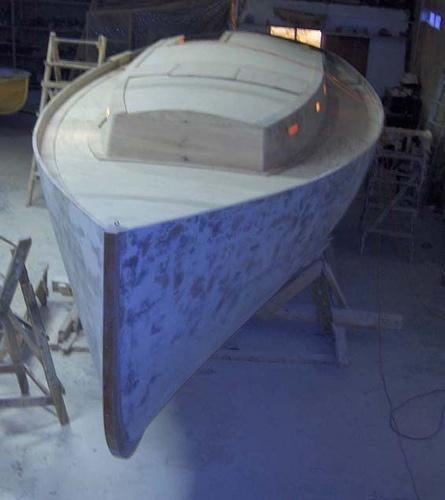boat: (32, 22, 395, 464)
